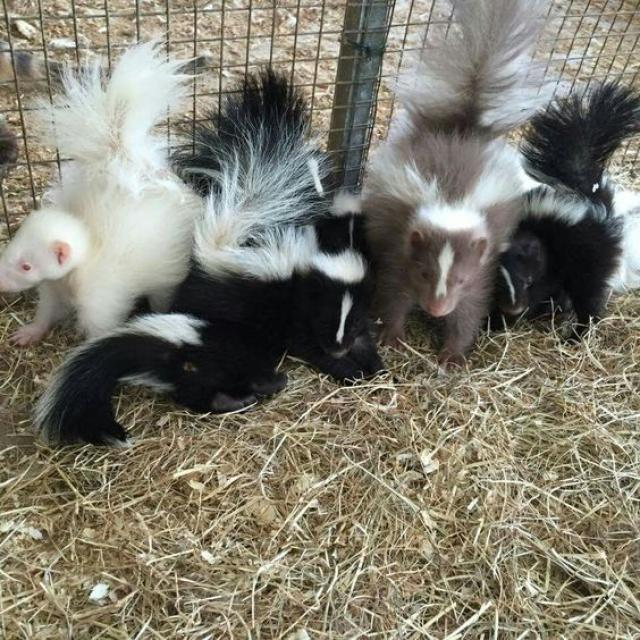Skunk: (351, 0, 538, 381)
